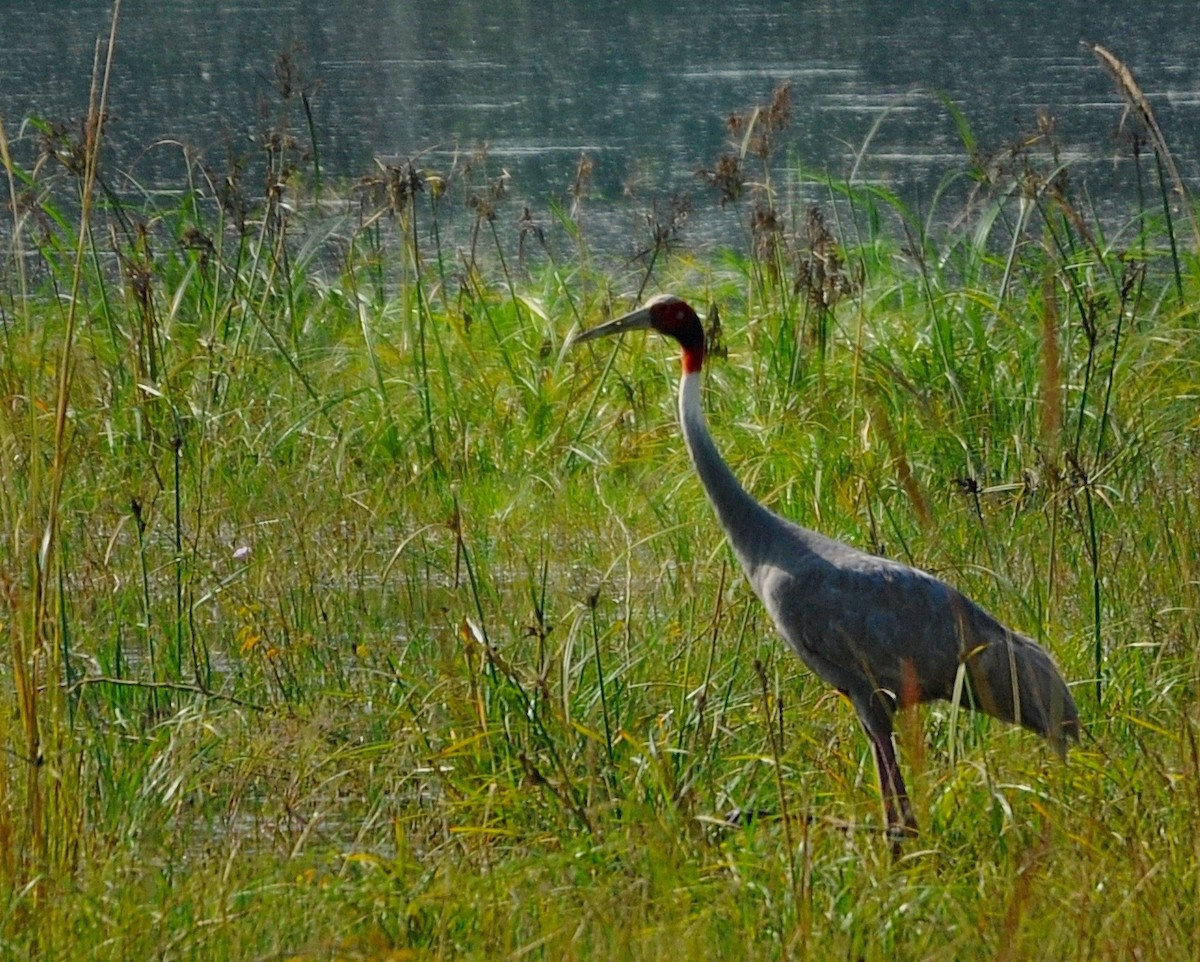crane: (577, 281, 1089, 840)
